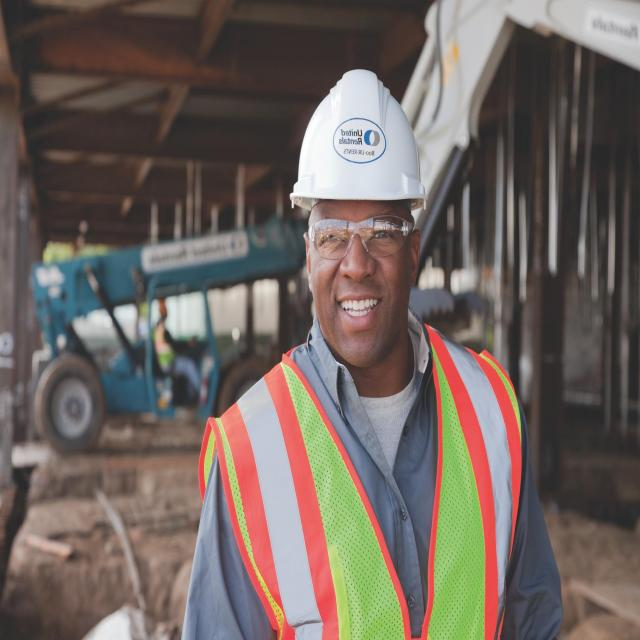Reflective-Jacket: (196, 324, 530, 632)
Safety-Helmet: (284, 62, 432, 215)
